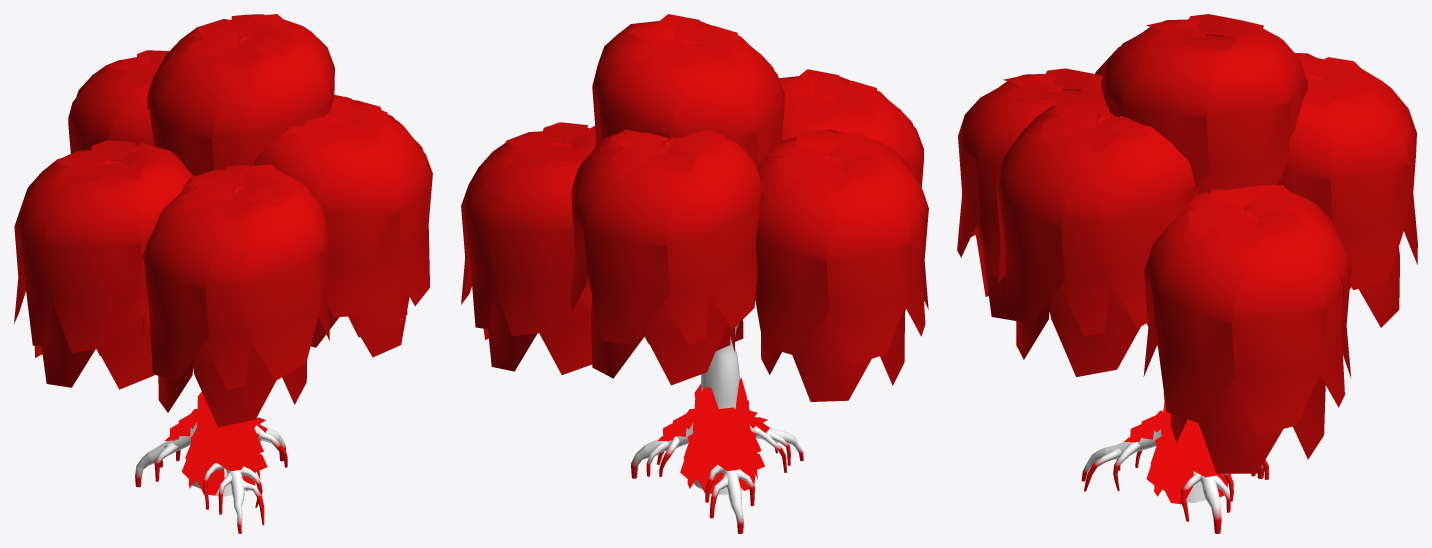
Rendered from SM_tree_01.FBX.
3 views of the same model, side by side, from view 1: azimuth 30°, elevation 25°; view 2: azimuth 150°, elevation 25°; view 3: azimuth 270°, elevation 25° (orthographic). The views are drawn at different scales.
Visible parts, largest first — view 1: SM_tree_01_LOD0; view 2: SM_tree_01_LOD0; view 3: SM_tree_01_LOD0.
Boxes of the visible parts, x1=… form: SM_tree_01_LOD0: x1=14, y1=14, x2=432, y2=533; SM_tree_01_LOD0: x1=461, y1=14, x2=928, y2=533; SM_tree_01_LOD0: x1=957, y1=14, x2=1417, y2=533.
Size of what is drawn, in the model's own units: 1503 by 1330 by 1578.
